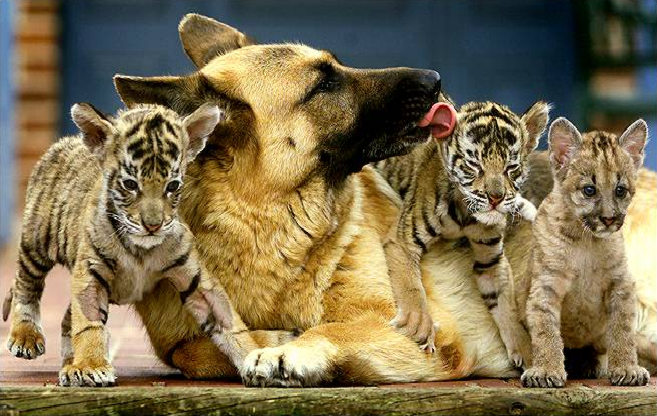dog: (99, 1, 563, 407)
tiger: (9, 90, 239, 384), (406, 93, 540, 371), (529, 117, 657, 393)
